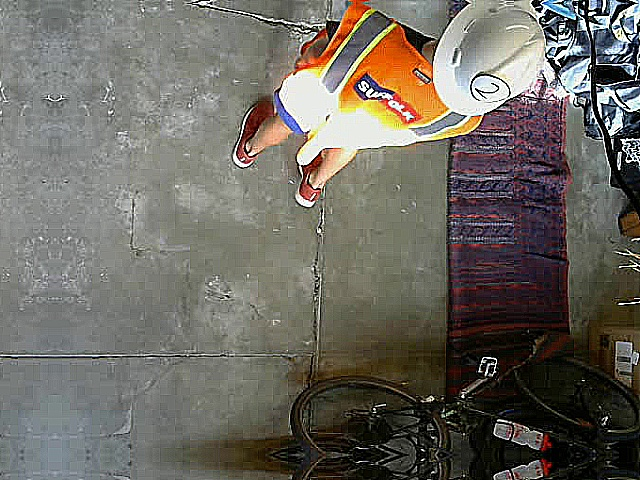two: (470, 74, 508, 104)
